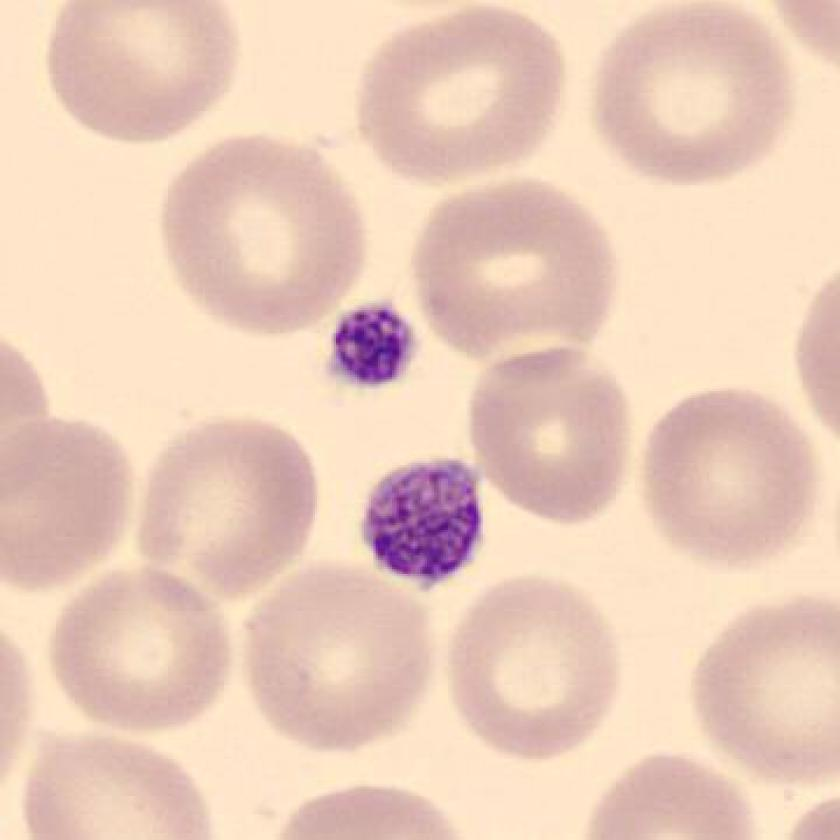platelets: (351, 452, 491, 589), (316, 300, 428, 397)
